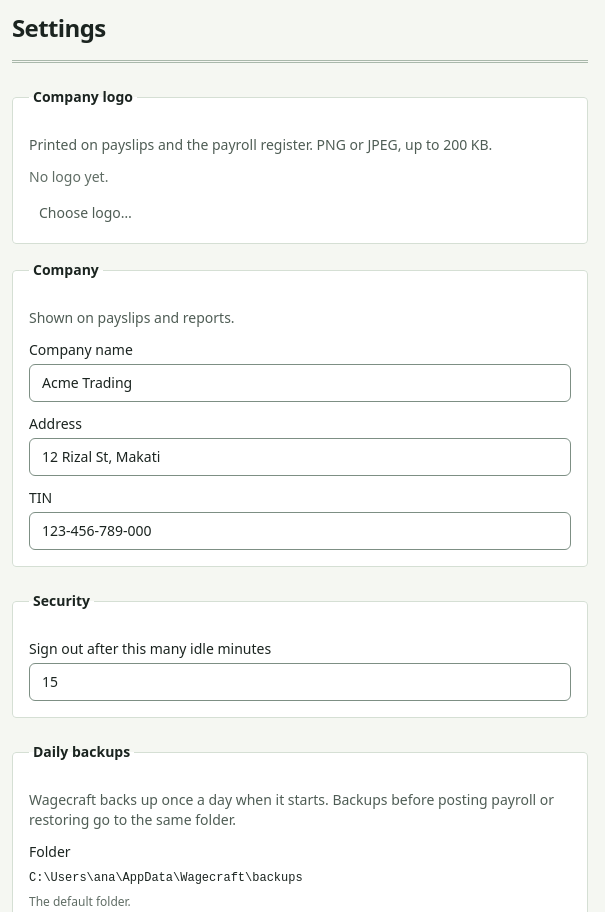
Test: SettingsPage › has no logo at first and adds one straight away
expect the text "No logo yet." is shown: met, box [29,167,108,186]
expect the button "Remove logo" is not shown: met
Click the button "Choose logo…": (85, 213) [29,199,142,227]
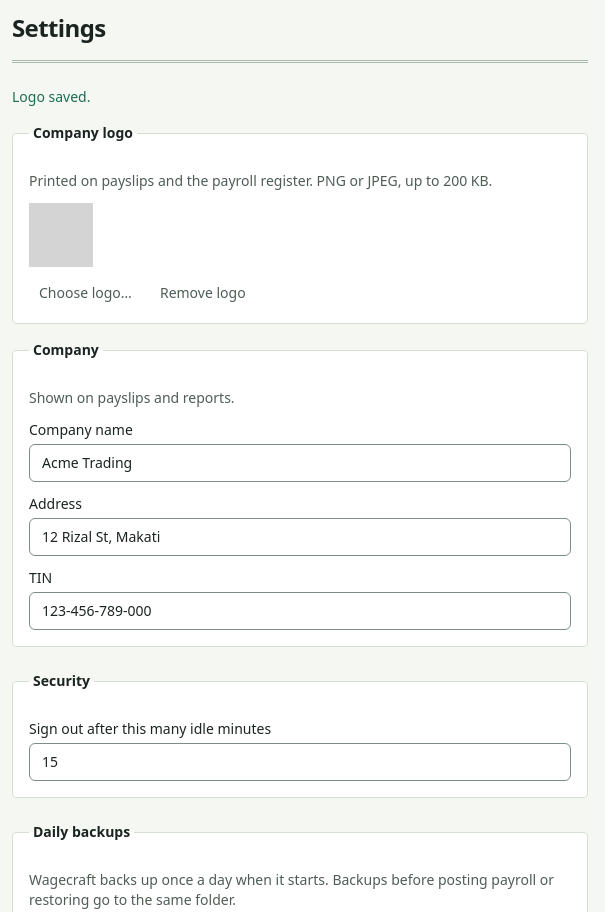
expect the message reads "Logo saved.": met, box [12,87,90,106]
expect the text "No logo yet." is gone: met
